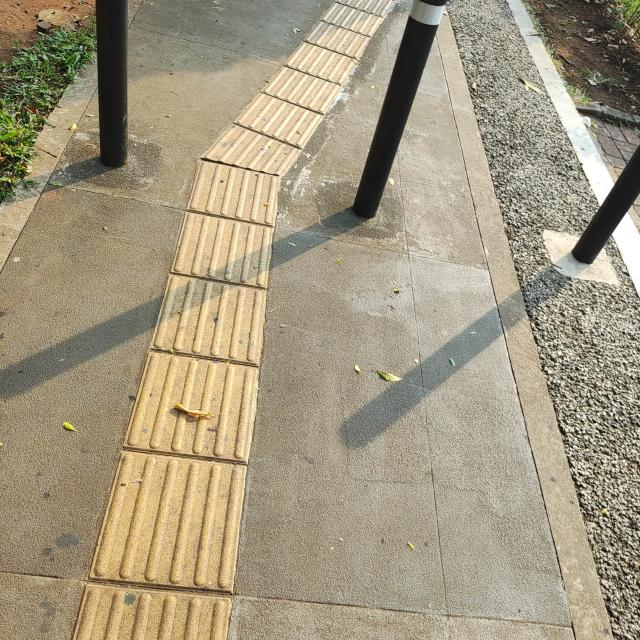lurus: (127, 148, 257, 640)
